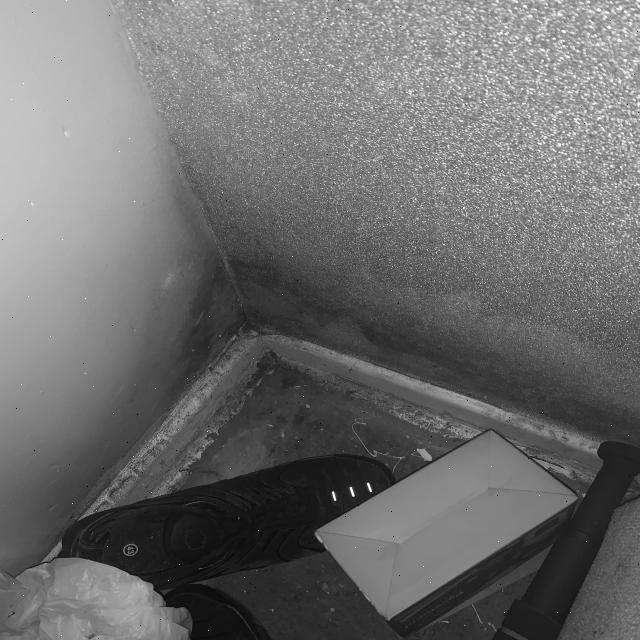stain marks: (156, 167, 364, 416), (368, 276, 640, 436)
